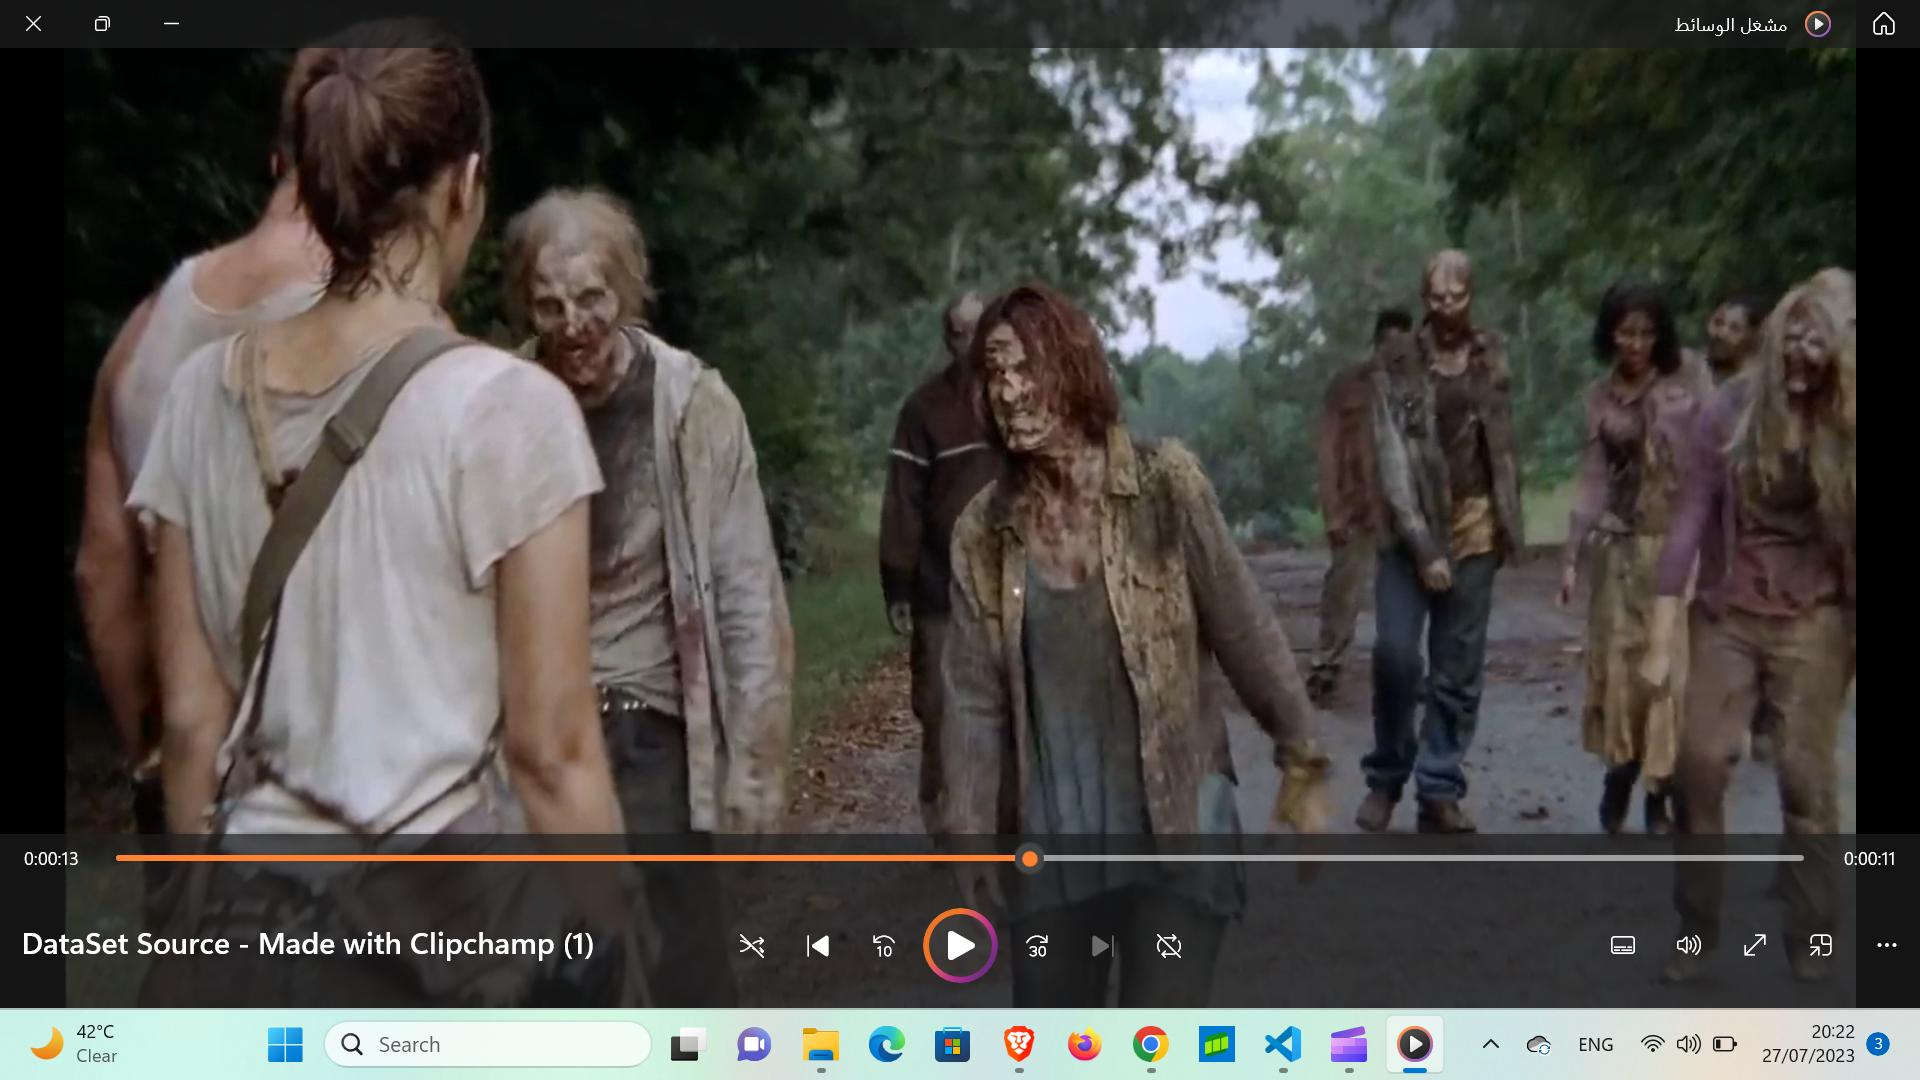Zombie: (955, 301, 1098, 469), (514, 185, 632, 378), (1778, 272, 1855, 425), (1415, 241, 1478, 345), (1695, 307, 1764, 388), (1607, 285, 1667, 378)
